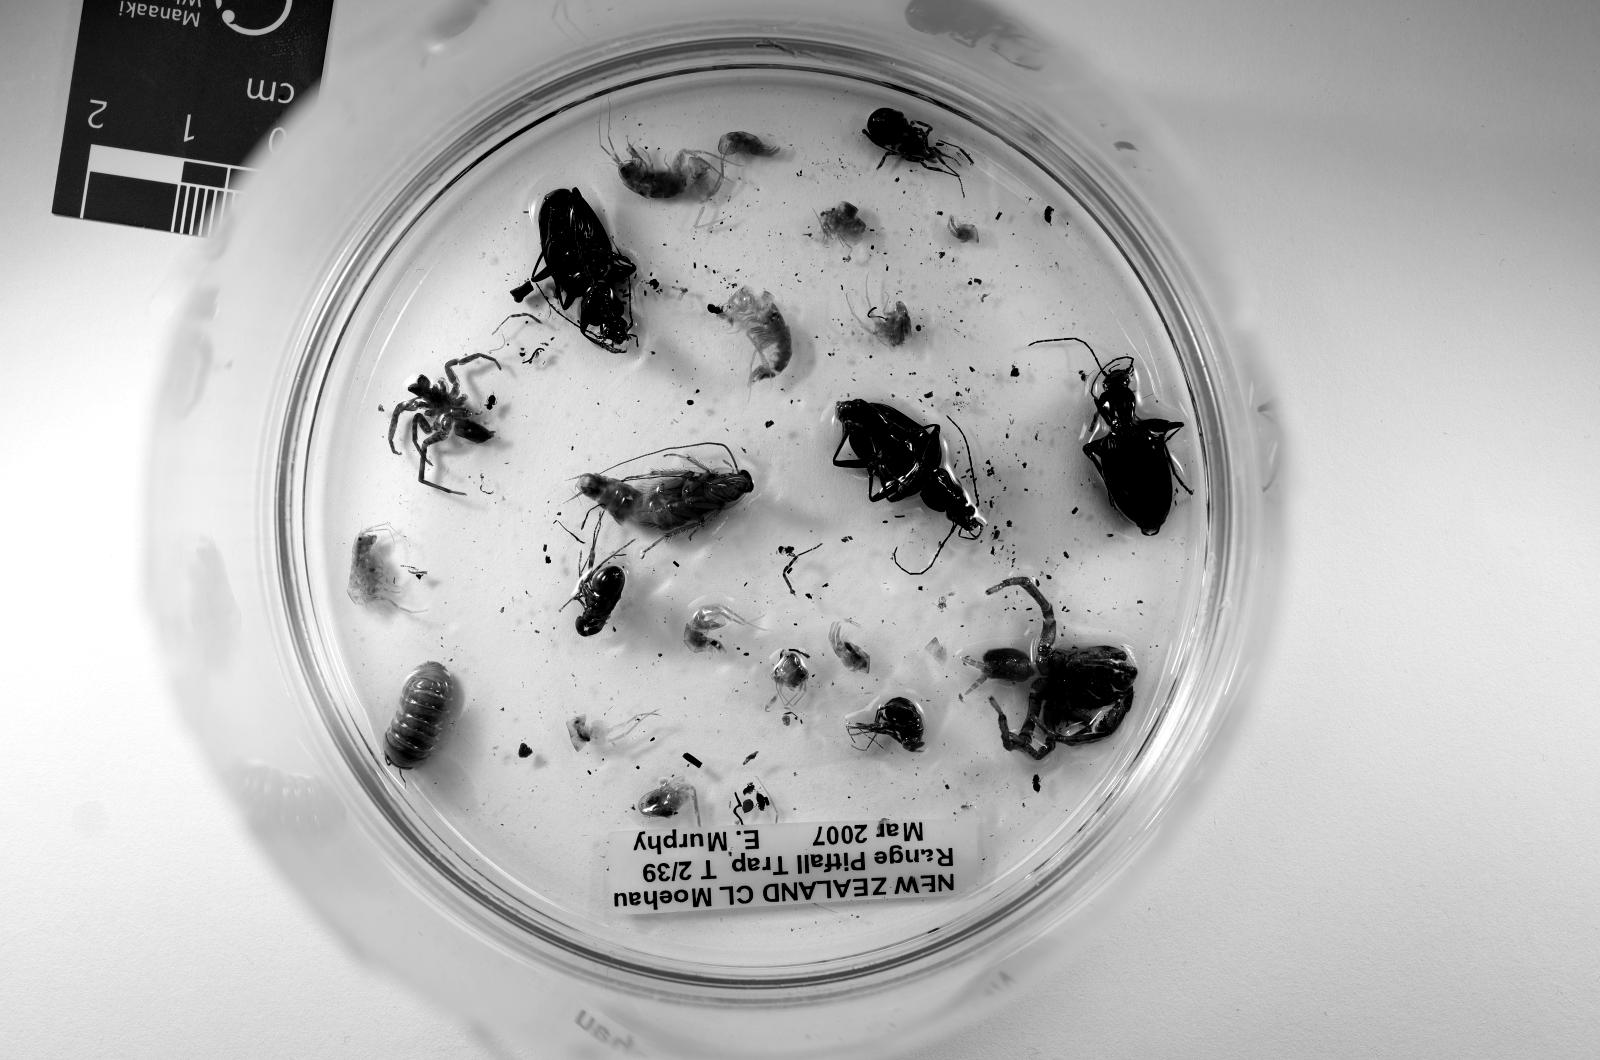araneae: (962, 578, 1138, 761), (388, 354, 494, 494)
blattodea: (631, 450, 753, 537)
carabidae: (834, 401, 984, 537), (1084, 357, 1184, 534), (531, 189, 634, 351)
diptera: (1031, 773, 1041, 792)
isopoda: (384, 661, 453, 767)
opiliones: (862, 109, 972, 177), (572, 522, 625, 637), (747, 292, 791, 388), (609, 146, 688, 199), (847, 699, 925, 752), (347, 531, 397, 606)
